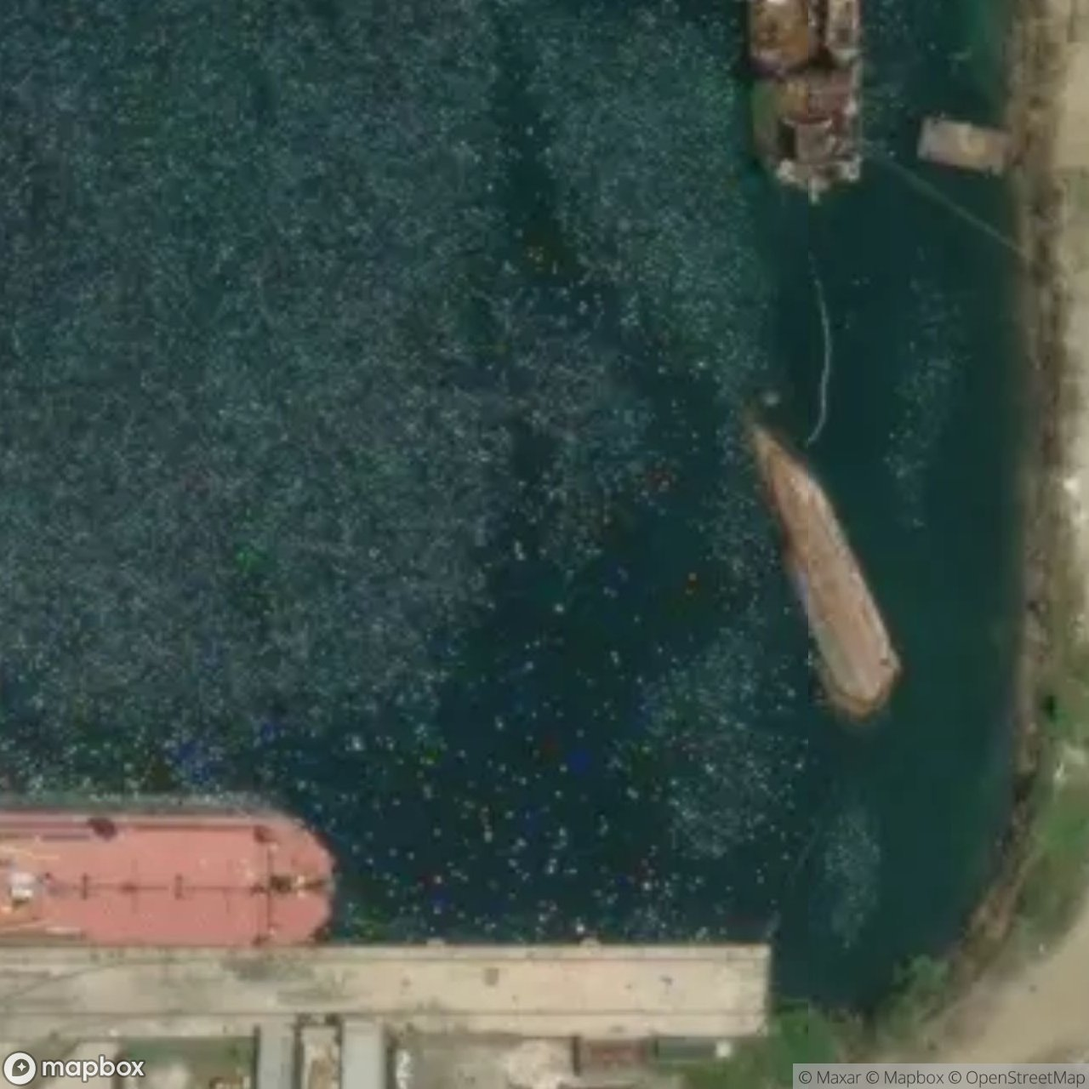Wreck: (706, 422, 949, 736)
